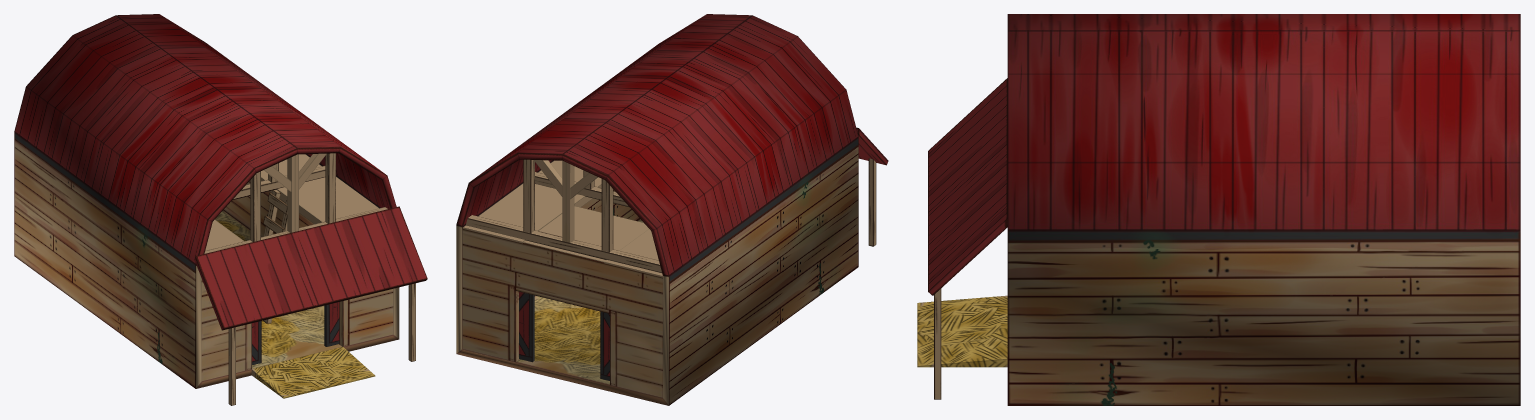
File: Barn.fbx
The picture shows the model from 3 angles, left to right: view 1: azimuth 30°, elevation 25°; view 2: azimuth 150°, elevation 25°; view 3: azimuth 270°, elevation 25°; orthographic projection. The views are drawn at different scales.
Parts seen in each view (by area): view 1: Barn, Roof, Front, Ramp, Pilars, Floor, Columns, Doors, Pilars2, Steps, Stair; view 2: Barn, Front, Floor, Pilars, Pilars2, Board, Doors, Columns, Roof; view 3: Barn, Roof, Ramp, Columns.
Boxes of the visible parts, x1=… form: Barn: x1=14, y1=14, x2=399, y2=388; Roof: x1=195, y1=206, x2=427, y2=330; Front: x1=201, y1=279, x2=393, y2=380; Ramp: x1=251, y1=347, x2=375, y2=398; Pilars: x1=250, y1=153, x2=335, y2=241; Floor: x1=205, y1=154, x2=378, y2=250; Columns: x1=228, y1=283, x2=415, y2=405; Doors: x1=252, y1=302, x2=339, y2=365; Pilars2: x1=204, y1=166, x2=387, y2=253; Steps: x1=263, y1=193, x2=287, y2=233; Stair: x1=263, y1=190, x2=287, y2=323; Barn: x1=456, y1=14, x2=858, y2=405; Front: x1=462, y1=229, x2=662, y2=397; Floor: x1=463, y1=160, x2=662, y2=277; Pilars: x1=523, y1=159, x2=613, y2=252; Pilars2: x1=466, y1=172, x2=661, y2=272; Board: x1=523, y1=206, x2=648, y2=262; Doors: x1=519, y1=291, x2=609, y2=380; Columns: x1=868, y1=158, x2=876, y2=246; Roof: x1=856, y1=127, x2=888, y2=165; Barn: x1=1007, y1=14, x2=1520, y2=405; Roof: x1=928, y1=78, x2=1007, y2=295; Ramp: x1=917, y1=295, x2=1007, y2=367; Columns: x1=934, y1=288, x2=941, y2=399.
Bounding box in the file's own units: 595 × 602 × 1079.
1 material, 1 textured.
